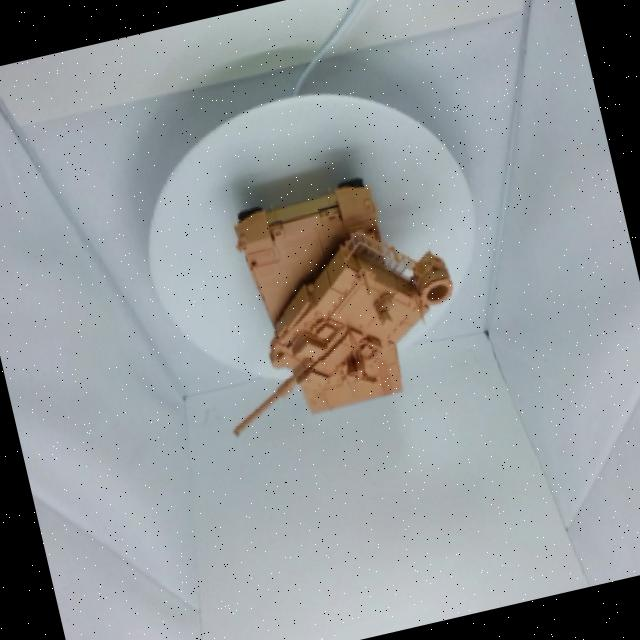korea tank: (120, 134, 508, 494)
